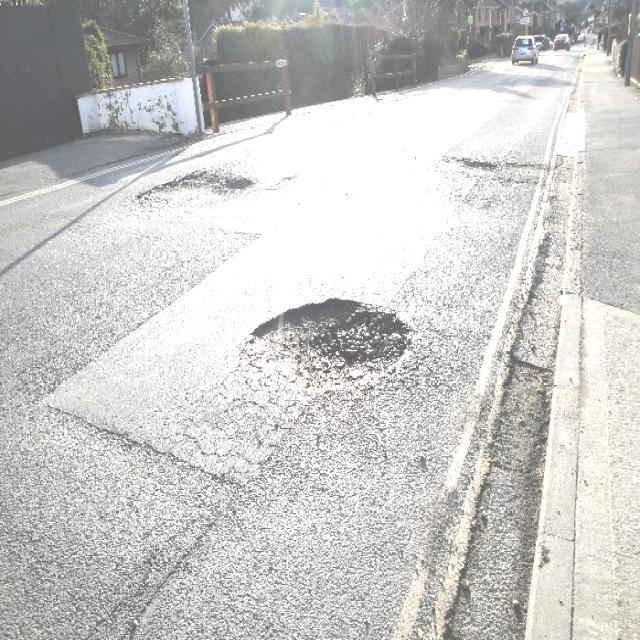Pothole: (225, 293, 414, 389), (130, 152, 291, 212), (442, 150, 565, 209)
